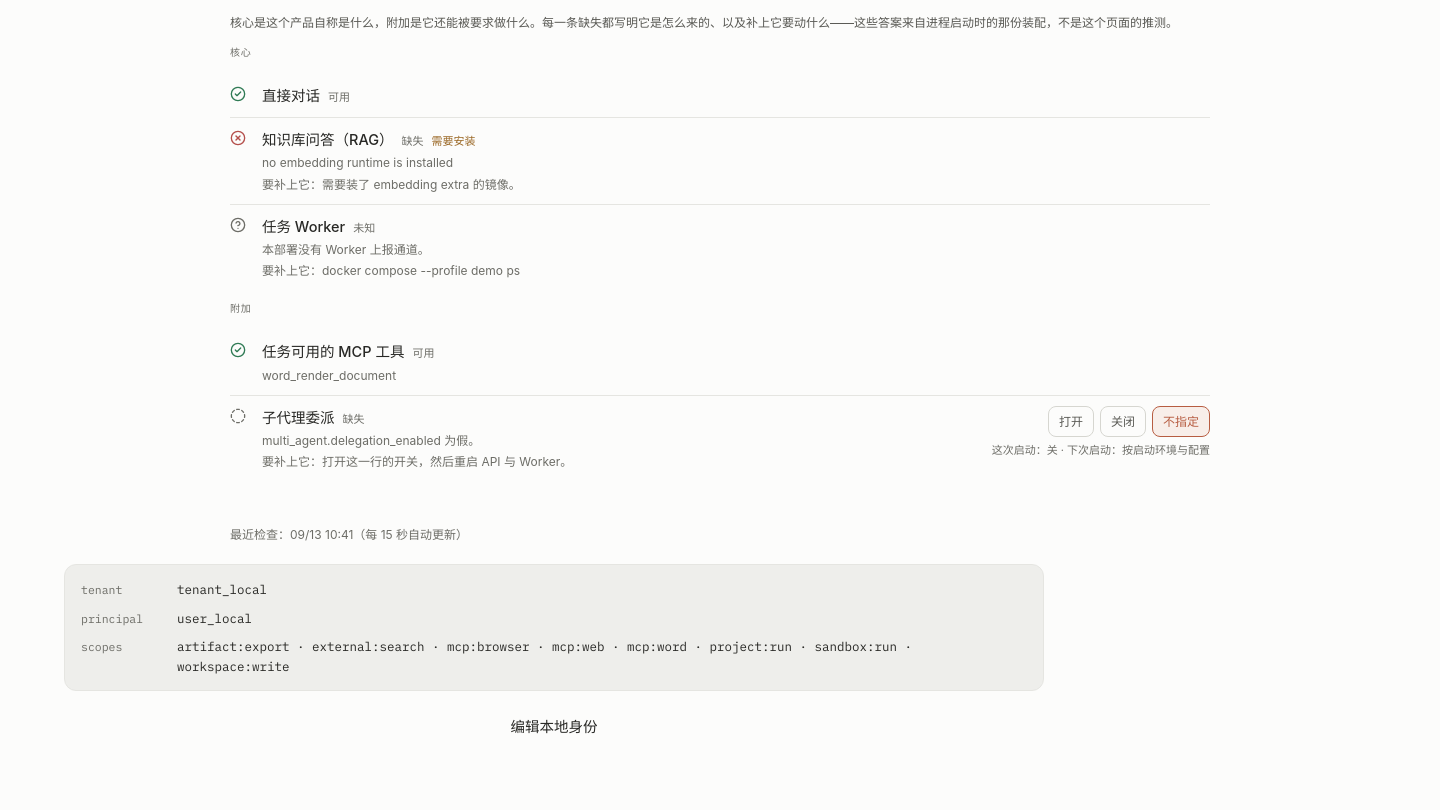
Test: SystemPage › 拨一下开关：写的是下次启动，页面用服务端回的整份清单替换自己
The image size is (1440, 810).
(page scrolled)
What coordinates should you click on to do the following:
click the radio button labelled "打开"
I would click on:
 (1071, 421)
Its box is [1048, 406, 1094, 437].
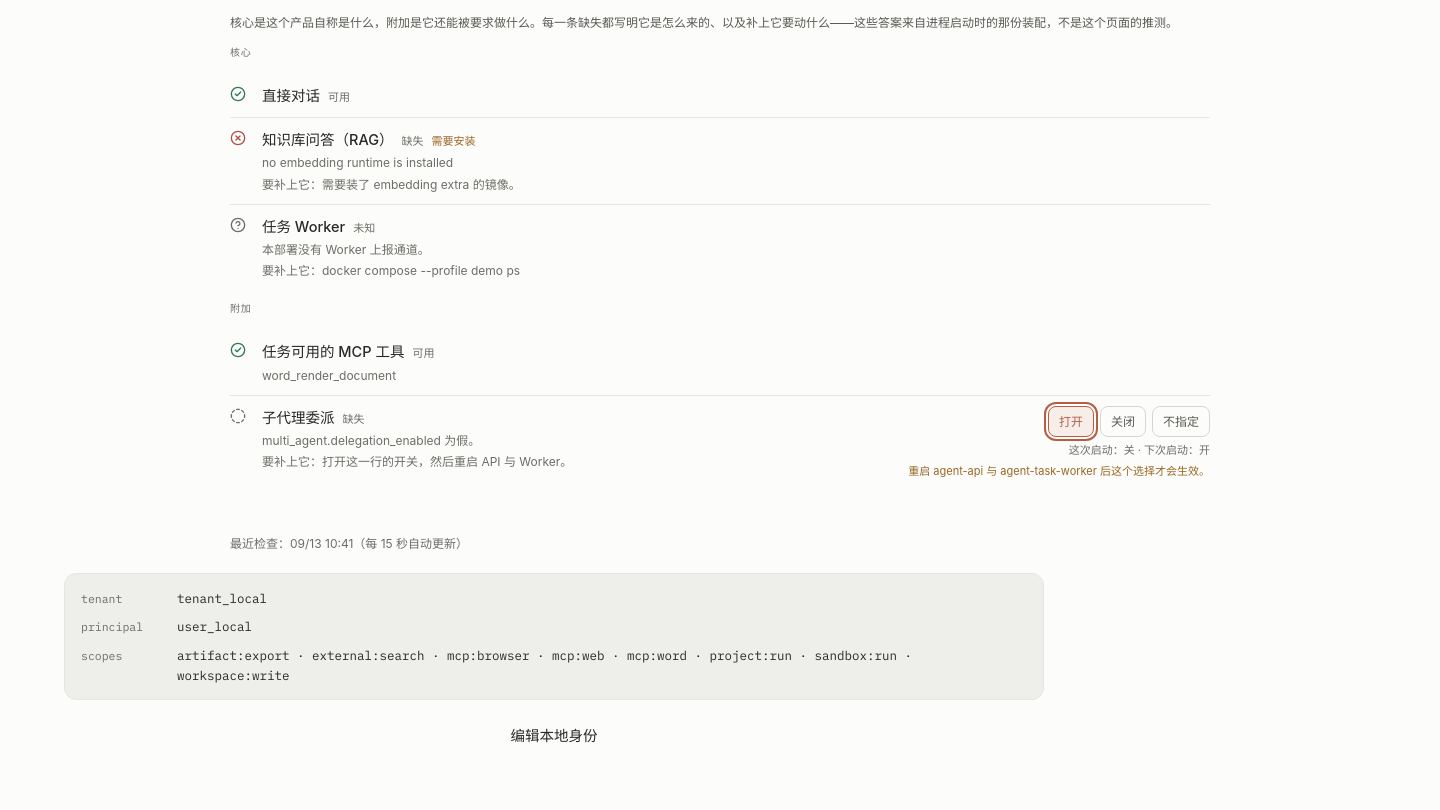
expect the text "这次启动：关 · 下次启动：开" is shown: met, box [1069, 442, 1210, 458]
expect the text "重启 agent-api 与 agent-task-worker 后这个选择才会生效。" is shown: met, box [908, 463, 1210, 480]
